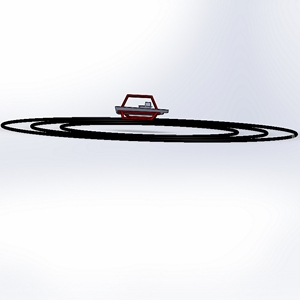circle: (1, 82, 300, 161)
submarine: (104, 88, 176, 127)
